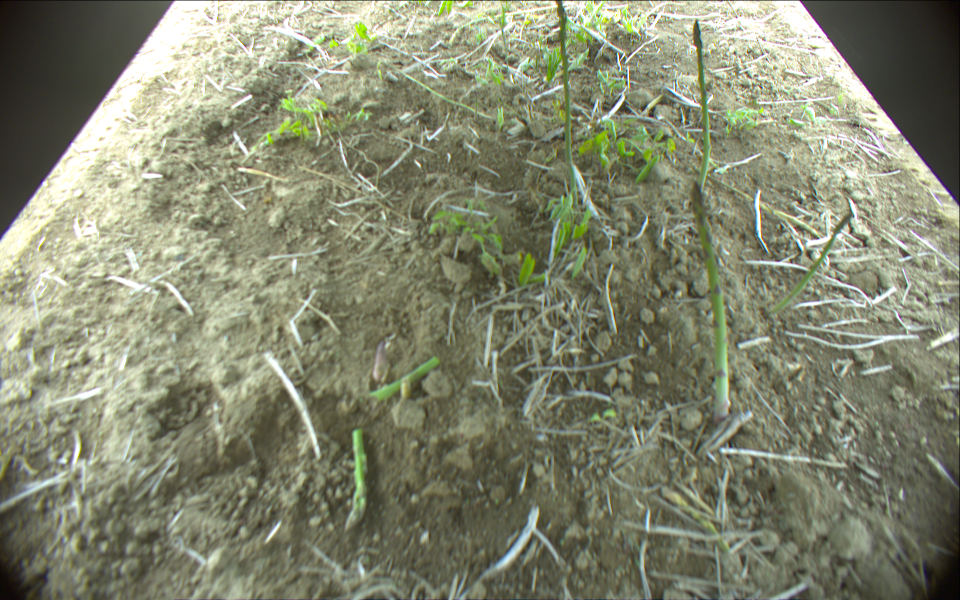aspa: (688, 182, 730, 427), (769, 211, 854, 318), (381, 63, 497, 121), (552, 1, 577, 213), (449, 1, 572, 44), (662, 487, 731, 558), (692, 19, 713, 196), (371, 357, 439, 402), (343, 427, 370, 532)
